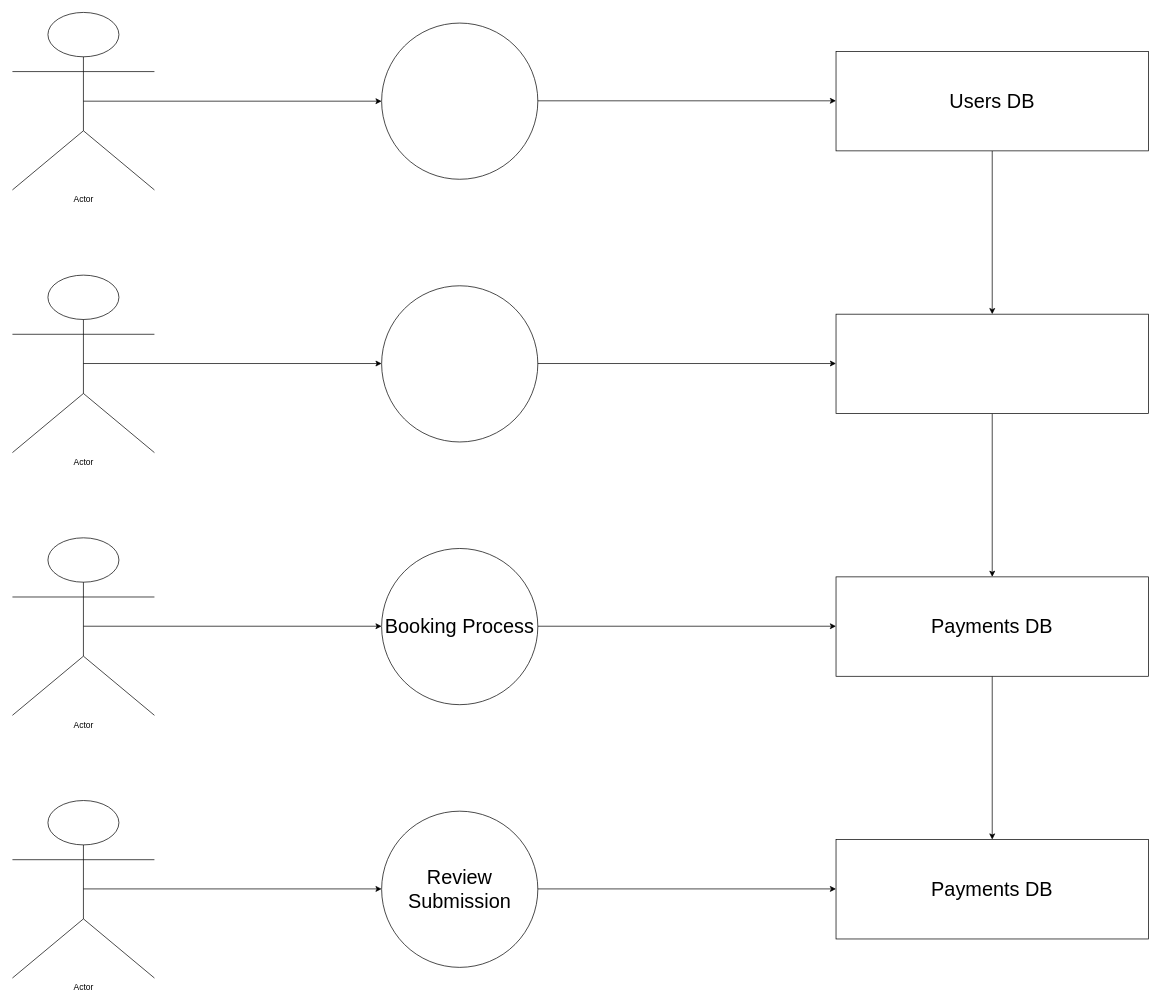
Image size: 1161x1005. Some labels were removed from this diagram. Each missing label, with the centre of its shape:
"Properties DB" goes at point 991,363.
"Property Listing & Search" goes at point 459,363.
"User Registration / Login" goes at point 459,100.
